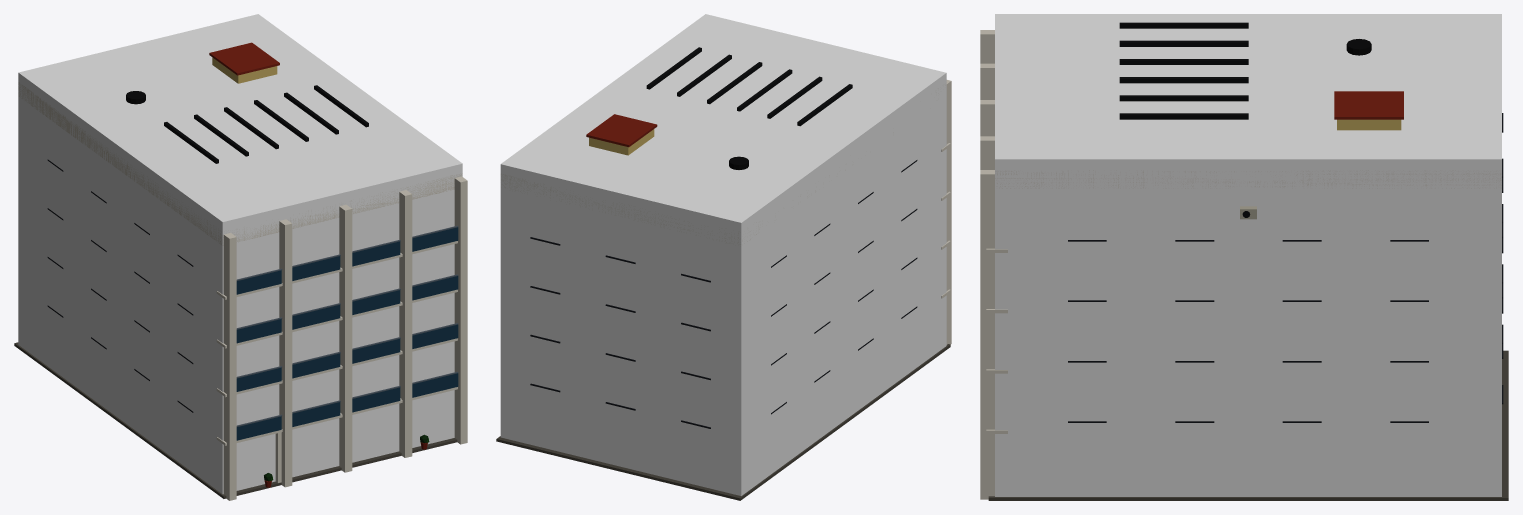
File: CHN_059_studio_apt.glb
3 views of the same model, side by side, from view 1: azimuth 30°, elevation 25°; view 2: azimuth 150°, elevation 25°; view 3: azimuth 270°, elevation 25° (orthographic). The views are drawn at different scales.
Visible parts, largest first — view 1: COL_Main, LOD0; view 2: COL_Main, LOD0; view 3: COL_Main, LOD0.
Boxes of the visible parts, x1,y1,x2,y2 form: COL_Main: (18,14,462,494); LOD0: (14,42,467,500); COL_Main: (500,14,946,495); LOD0: (496,47,951,500); COL_Main: (995,14,1501,496); LOD0: (980,22,1508,500).
Size of what is drawn, in the model's own units: 16.44 by 18.41 by 24.57.
